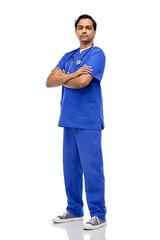Human: (40, 9, 118, 235)
